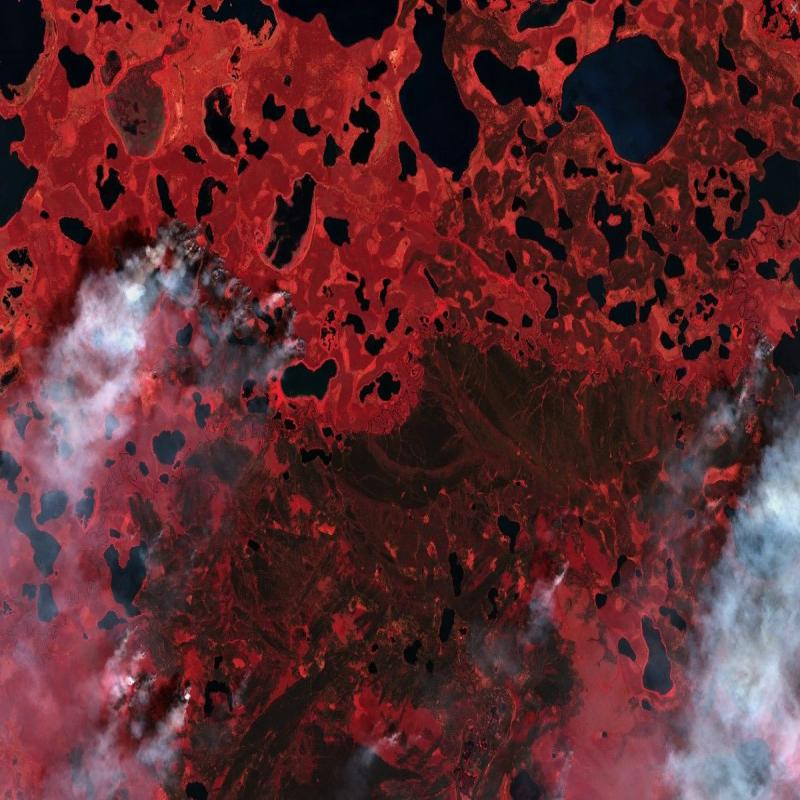fire: (81, 215, 313, 394), (710, 309, 800, 635), (100, 608, 224, 776), (524, 550, 577, 633), (372, 719, 423, 765), (547, 741, 578, 799)
